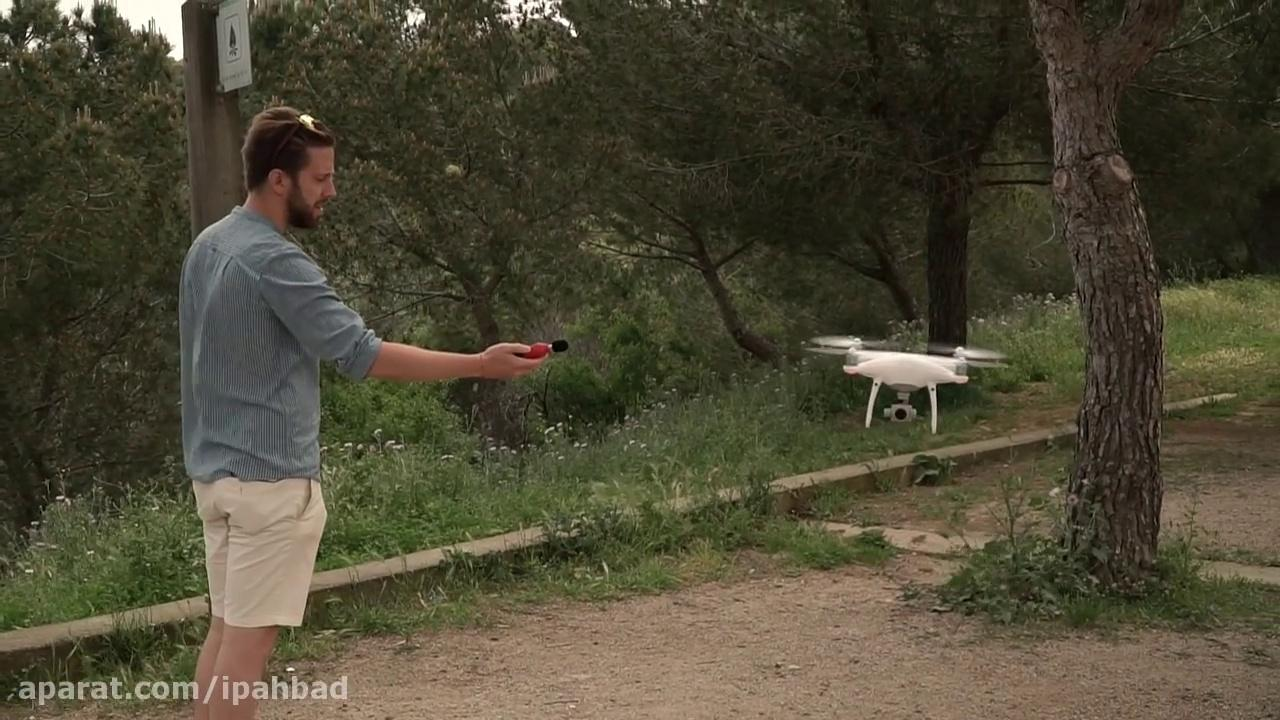drone: (807, 338, 1009, 430)
